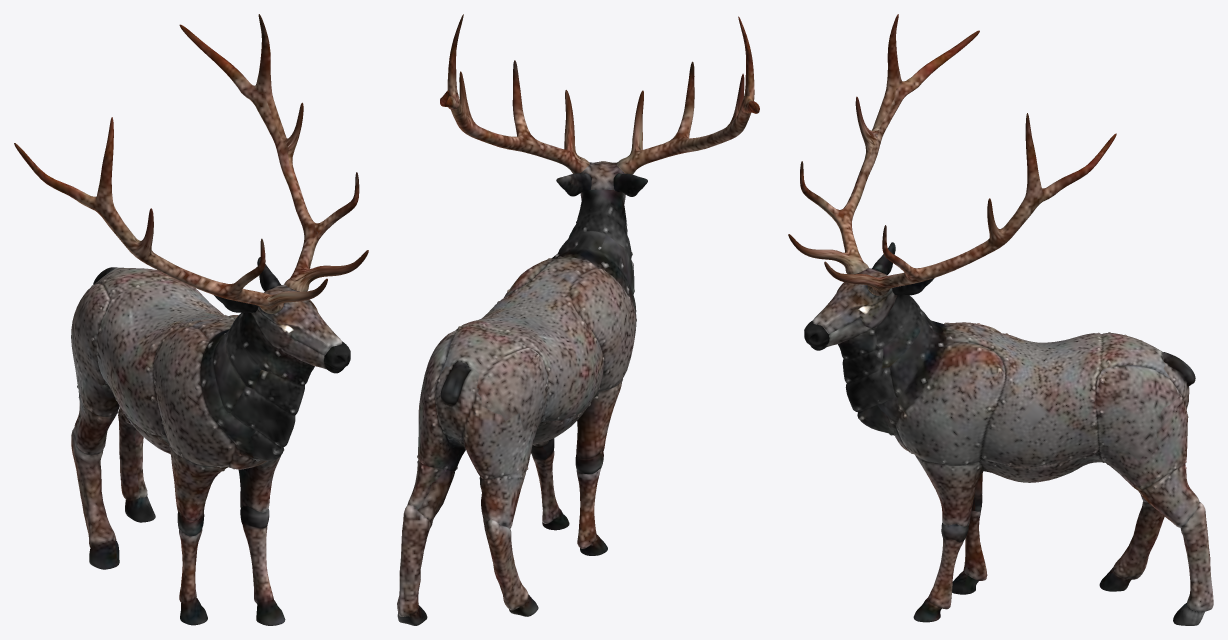
File: MZ4250 - Wrath of the Iron Heart_aged.glb
3 renders of one model, left to right at view 1: azimuth 30°, elevation 25°; view 2: azimuth 150°, elevation 25°; view 3: azimuth 270°, elevation 25°, orthographic. The views are drawn at different scales.
Visible parts, largest first — view 1: Elk v2 v4 Original.001; view 2: Elk v2 v4 Original.001; view 3: Elk v2 v4 Original.001.
Part boxes in pixels (left/top/right/bottom): Elk v2 v4 Original.001: left=14, top=14, right=368, bottom=625; Elk v2 v4 Original.001: left=397, top=14, right=759, bottom=625; Elk v2 v4 Original.001: left=788, top=14, right=1213, bottom=625.
Bounding box in the file's own units: 107 × 193 × 142.
1 material, 1 textured.
